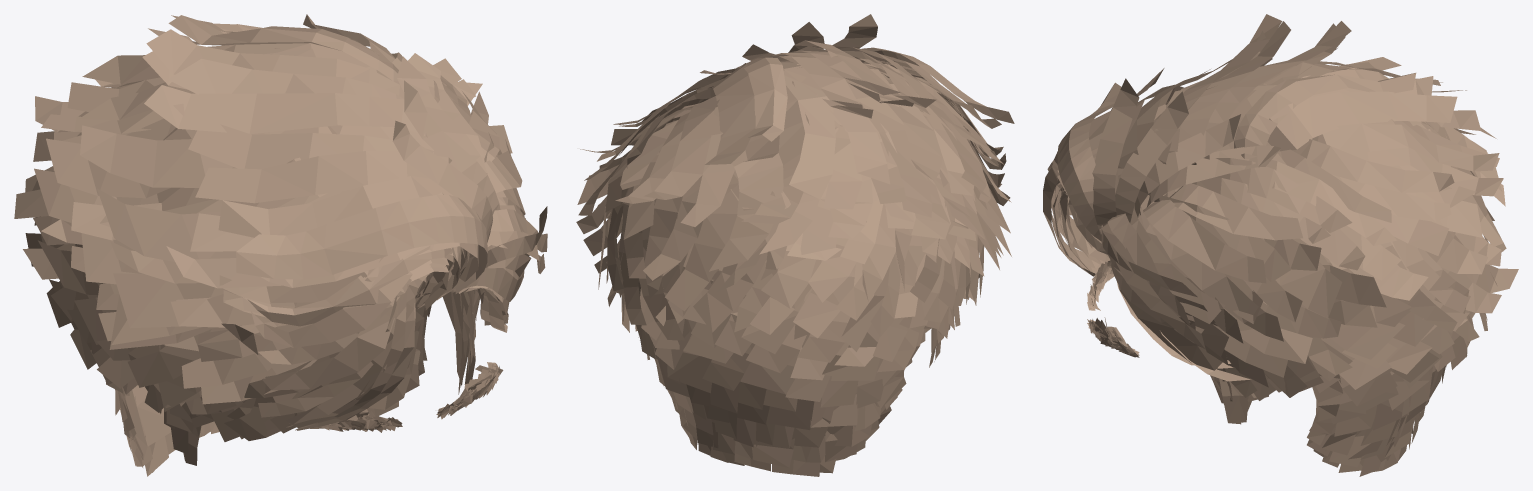
Rendered from male_hair_07_lod0.glb.
3 views of the same model, side by side, from view 1: azimuth 30°, elevation 25°; view 2: azimuth 150°, elevation 25°; view 3: azimuth 270°, elevation 25° (orthographic). The views are drawn at different scales.
Parts seen in each view (by area): view 1: hair_07; view 2: hair_07; view 3: hair_07.
Boxes of the visible parts, x1=… form: hair_07: x1=14, y1=14, x2=547, y2=476; hair_07: x1=576, y1=14, x2=1014, y2=476; hair_07: x1=1043, y1=14, x2=1518, y2=476.
Bounding box in the file's own units: 0.2155 × 0.2056 × 0.2339.
